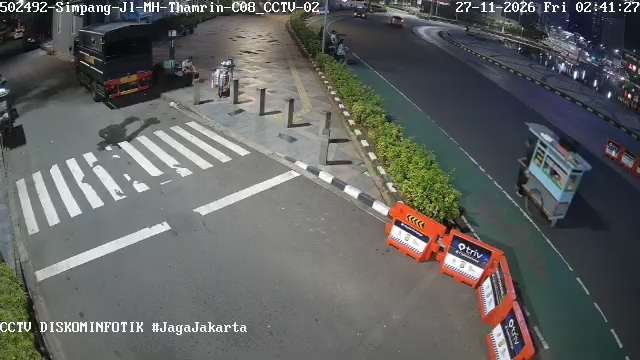Gerobak: (515, 121, 592, 227)
